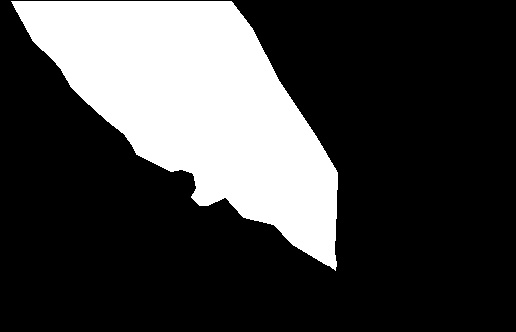Fire: (64, 43, 343, 274)
